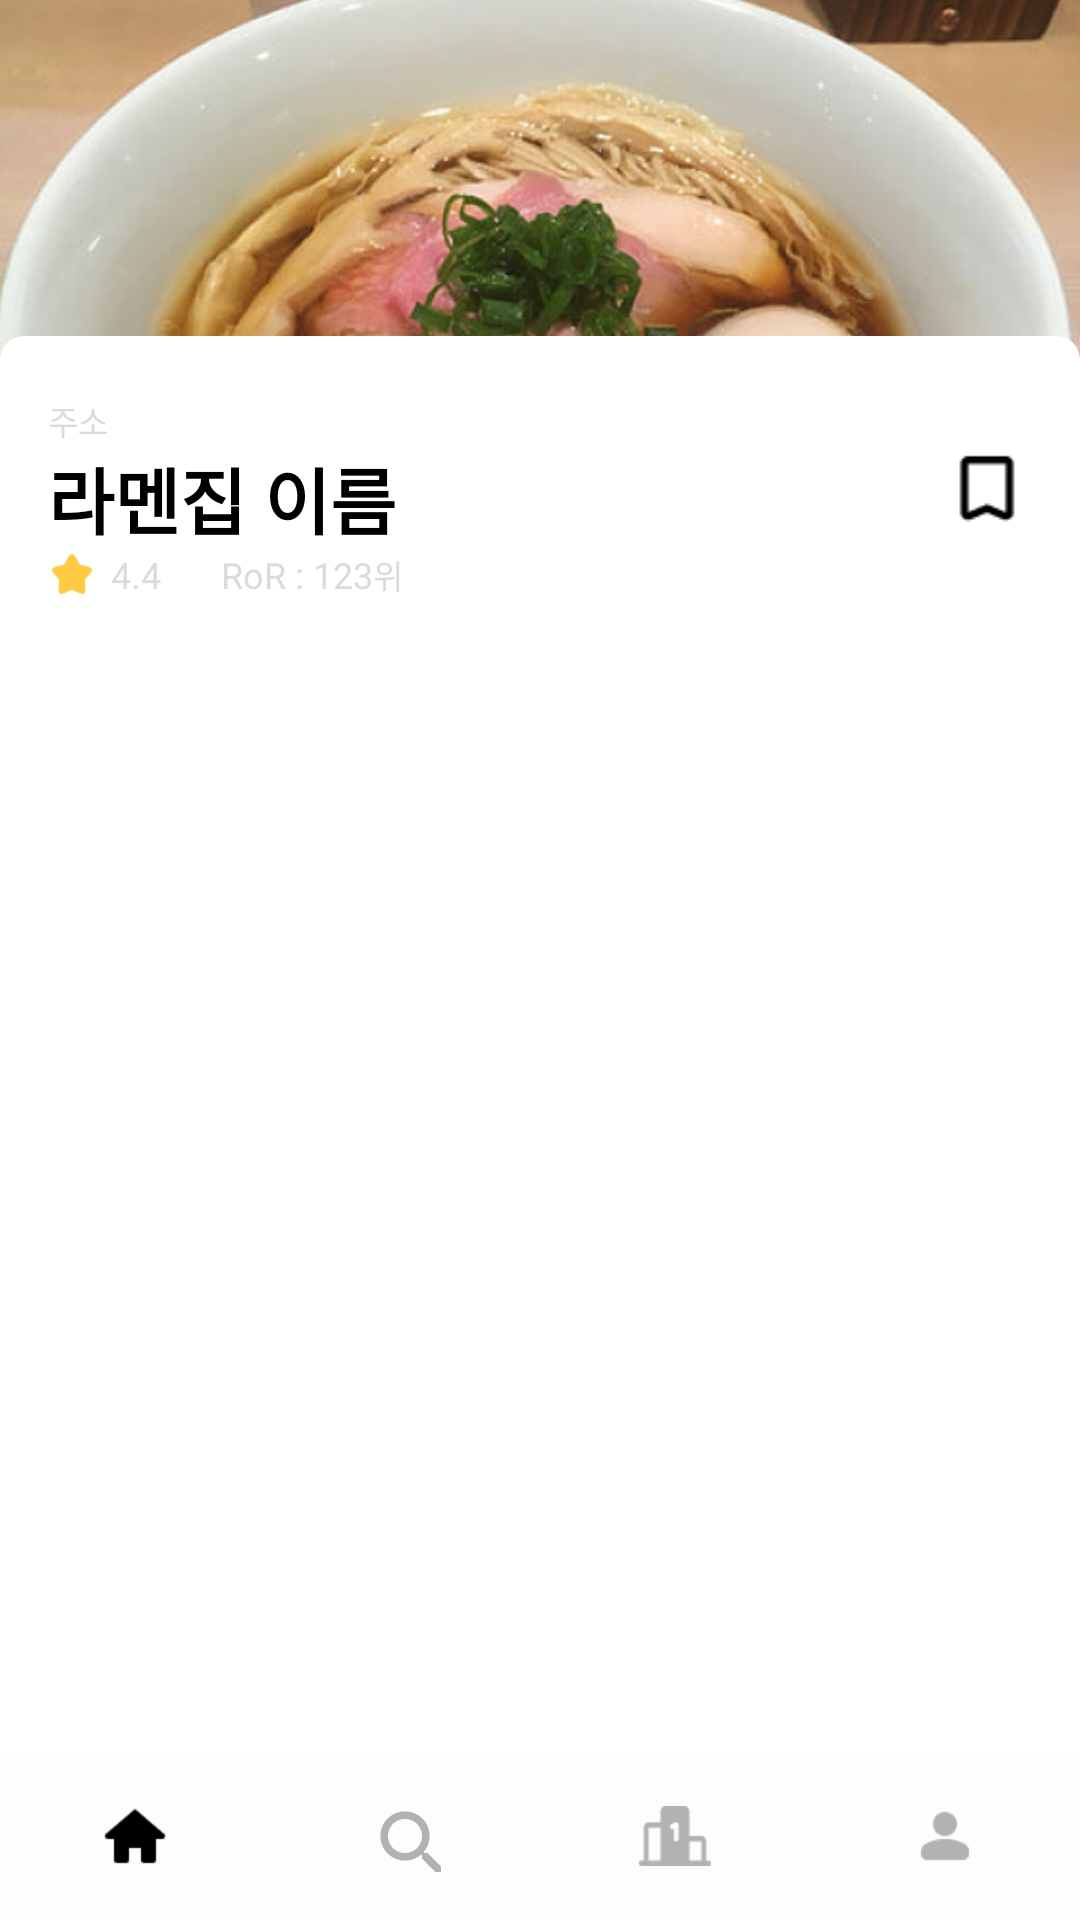

Icons on this 1080px x 1920px Android screen, each with the point to tap as (x=x, y=y):
star: (x=72, y=574)
